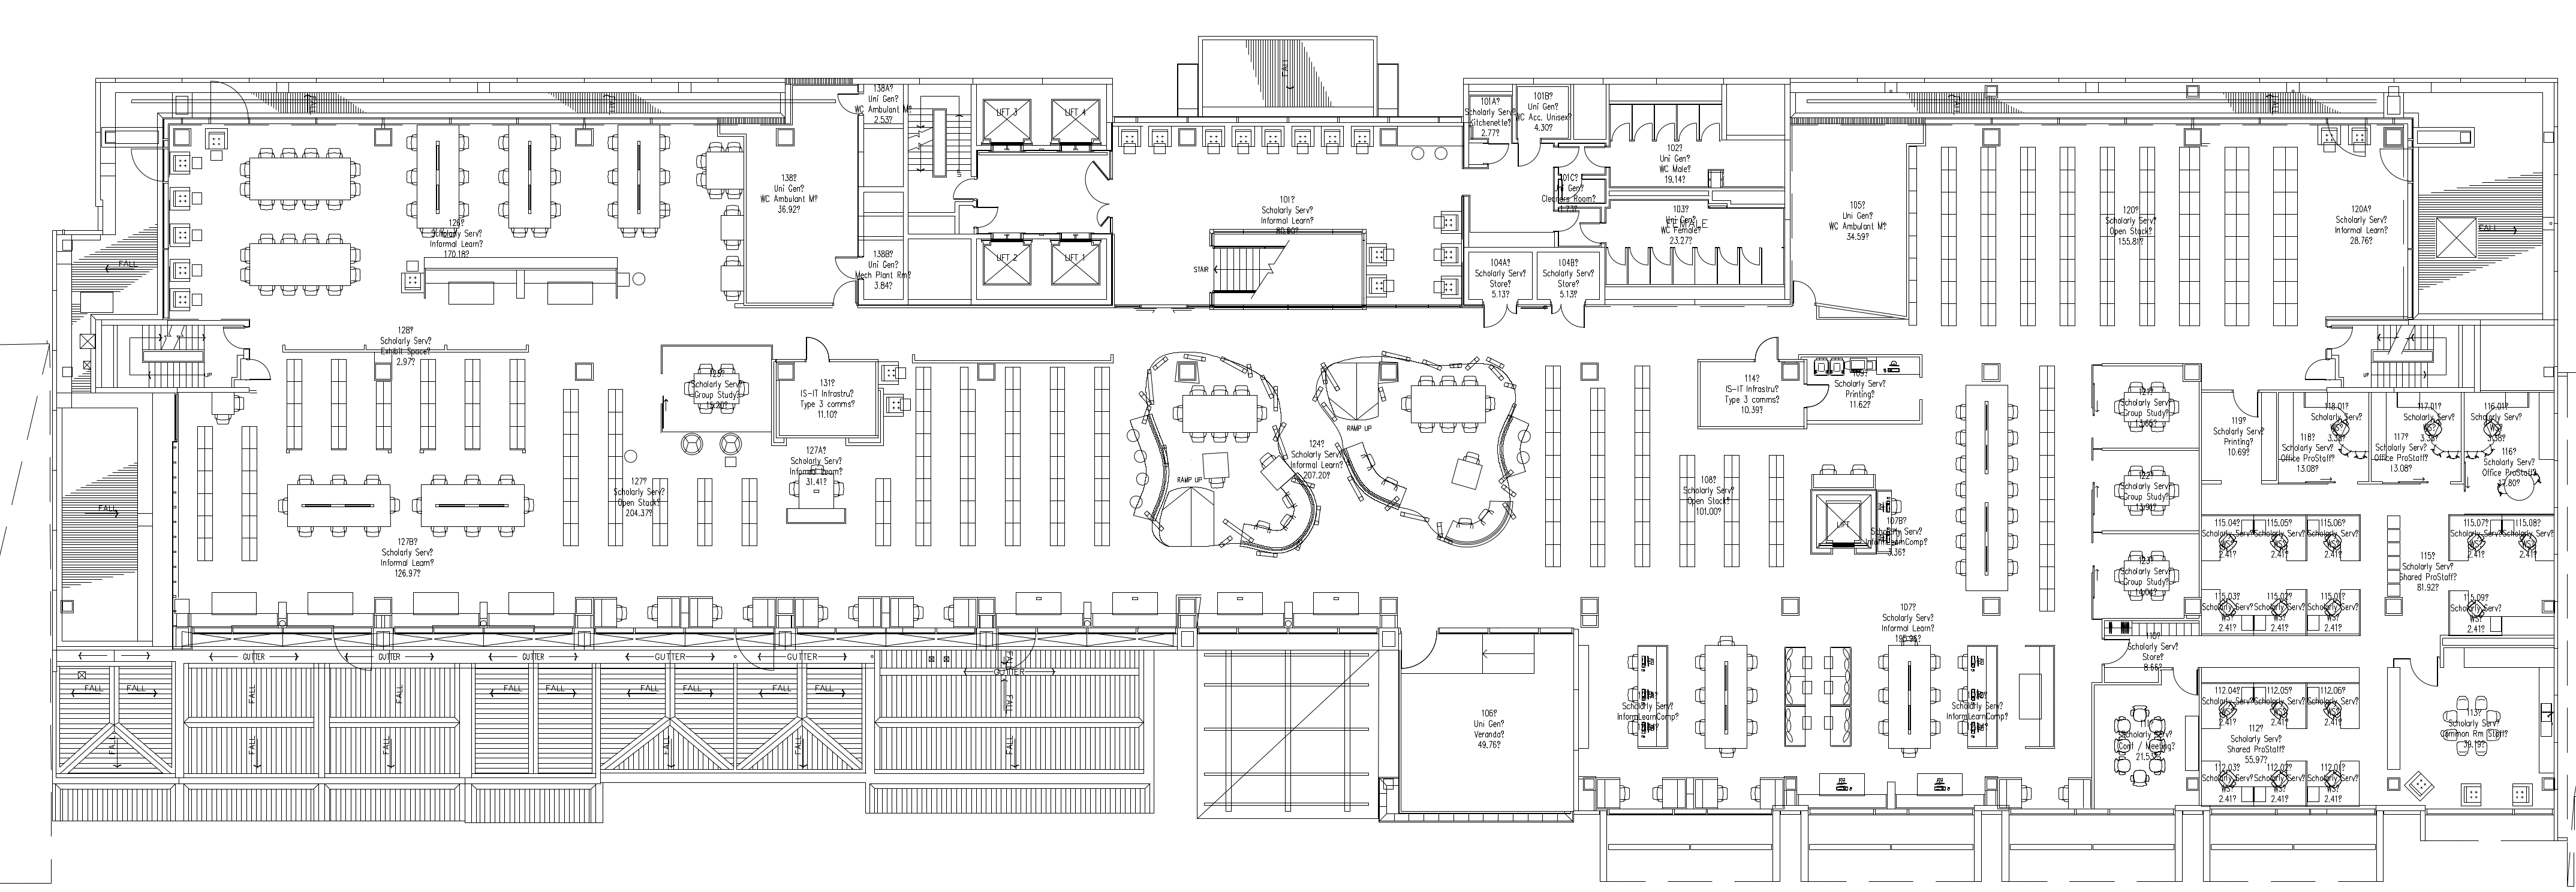text: (2200, 680, 2361, 810), (2201, 513, 2362, 636), (2430, 706, 2514, 762), (2109, 713, 2177, 775), (1863, 499, 1924, 568), (421, 207, 486, 269), (1253, 187, 1321, 246), (1824, 197, 1893, 255), (2321, 199, 2390, 253), (1875, 595, 1940, 651), (376, 531, 440, 586), (1286, 434, 1350, 486), (2109, 550, 2180, 598), (2093, 200, 2164, 248), (795, 371, 861, 422), (1944, 685, 2009, 734), (1612, 690, 1677, 739), (1536, 166, 1595, 218), (851, 245, 915, 292), (2111, 467, 2177, 513), (2118, 381, 2177, 432), (2223, 723, 2292, 766), (1829, 365, 1893, 411), (754, 172, 820, 217), (608, 476, 669, 524), (2211, 409, 2265, 462), (2124, 626, 2180, 677), (1515, 87, 1571, 138), (373, 324, 437, 368), (854, 79, 912, 128), (2482, 442, 2542, 490), (685, 365, 746, 411), (785, 440, 846, 486), (1720, 373, 1784, 416), (2274, 430, 2338, 471), (2395, 550, 2454, 593), (1681, 473, 1741, 514), (2308, 401, 2364, 445), (2374, 429, 2430, 473), (2399, 401, 2456, 444), (1539, 256, 1597, 299), (1474, 256, 1529, 299), (1464, 95, 1518, 138), (1467, 700, 1508, 754), (2471, 399, 2522, 440), (1658, 202, 1700, 246), (1656, 141, 1694, 189)
